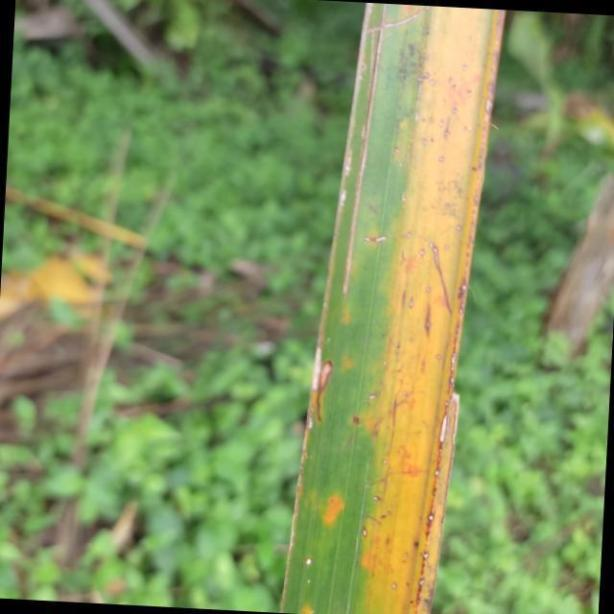Megnesium: (281, 0, 507, 614)
